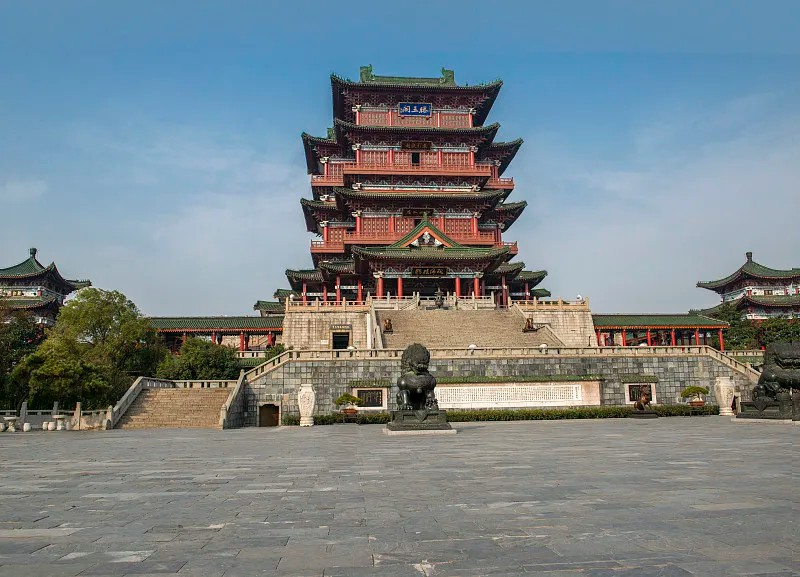Teng: (273, 65, 552, 306)
